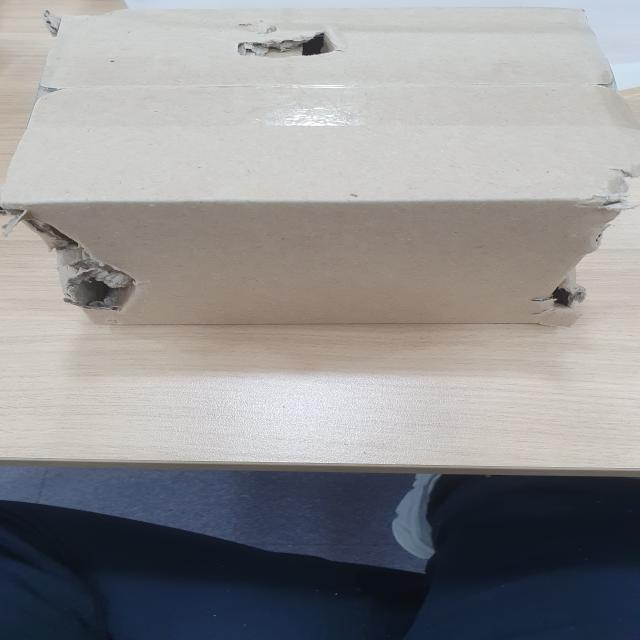hole: (546, 176, 640, 329), (15, 206, 145, 314), (225, 26, 344, 60)
